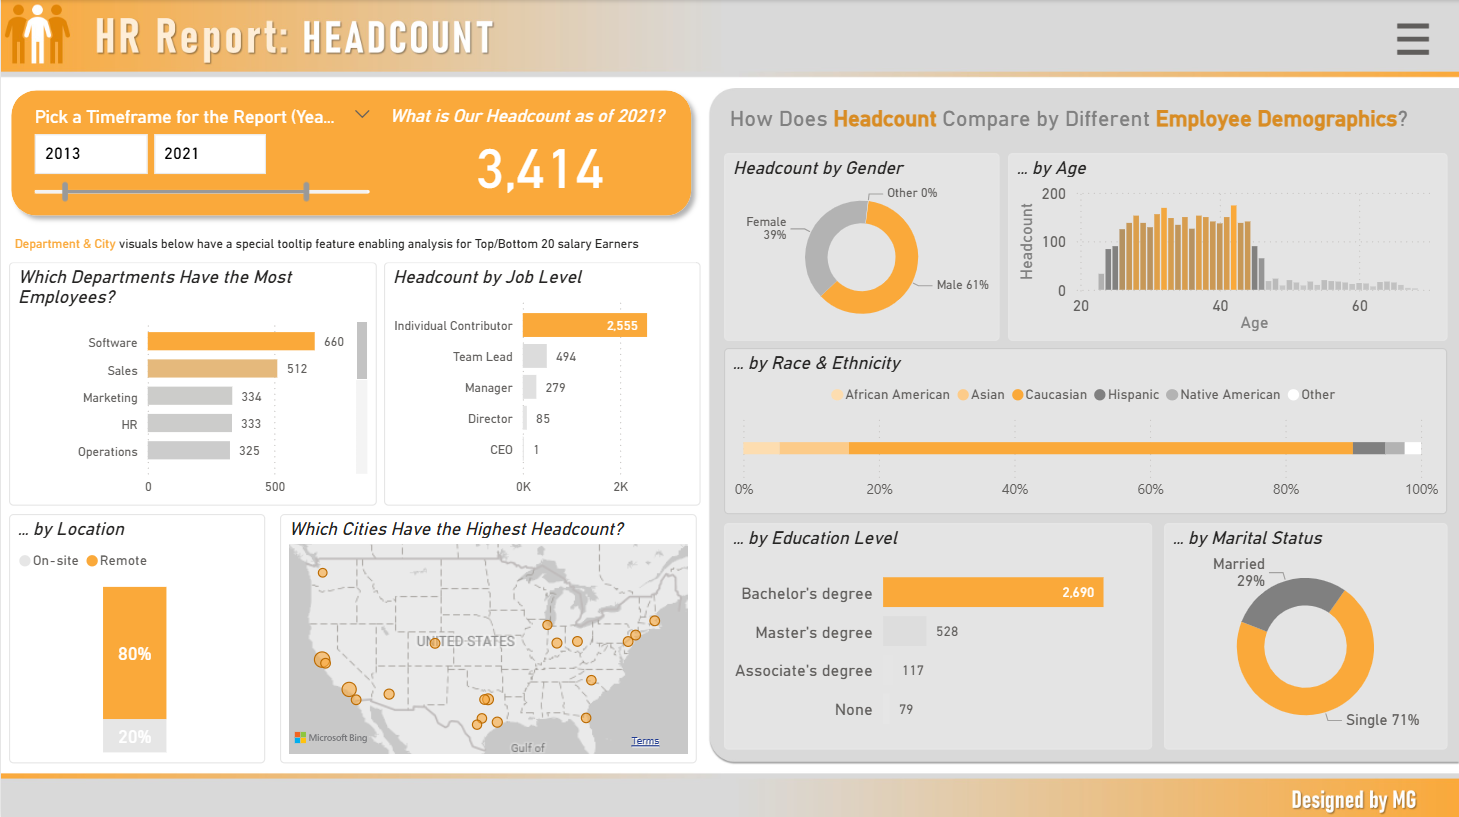

What the dashboard file says about the page in this screenshot:
{"tool":"powerbi","page":{"name":"Headcount","canvas":[1280,720],"ordinal":1},"visuals":[{"type":"shape","box":[0,70,614.7,128.4],"z":0},{"type":"card","fields":{"Values":["_Measures.Headcount"]},"box":[336.5,92.4,274.3,82.7],"z":1000},{"type":"slicer","fields":{"Values":["Date.Year"]},"box":[16.5,87.5,320,98.2],"z":2000},{"type":"clusteredBarChart","title":"Which Departments Have the Most Employees?","fields":{"Y":["_Measures.Headcount"],"Category":["department_dim.department","department_dim.sub-department"]},"box":[6.8,198.4,322.9,214],"z":3000},{"type":"clusteredBarChart","title":"Headcount by Job Level","fields":{"Y":["_Measures.Headcount"],"Category":["job_level_dim.job_level"]},"box":[336.5,198.4,278.2,214],"z":4000},{"type":"hundredPercentStackedColumnChart","title":"... by Location","fields":{"Y":["_Measures.Headcount"],"Series":["location_dim.location"]},"box":[6.8,421.2,224.7,249],"z":5000},{"type":"map","title":"Which Cities Have the Highest Headcount?","fields":{"Category":["location_dim.location_city"],"Size":["_Measures.Headcount"]},"box":[245.1,421.2,365.7,249],"z":6000},{"type":"donutChart","title":"Headcount by Gender","fields":{"Category":["demographic_dim.gender"],"Y":["_Measures.Headcount"]},"box":[635.1,134.2,242.2,165.3],"z":7000},{"type":"hundredPercentStackedBarChart","title":"... by Race & Ethnicity","fields":{"Y":["_Measures.Headcount"],"Series":["demographic_dim.race"]},"box":[635.1,305.4,635.1,145.9],"z":8000},{"type":"clusteredColumnChart","title":"... by Age","fields":{"Category":["demographic_dim.age"],"Y":["_Measures.Headcount"]},"box":[884.1,134.2,386.1,165.3],"z":9000},{"type":"clusteredBarChart","title":"... by Education Level","fields":{"Category":["education_dim.education"],"Y":["_Measures.Headcount"]},"box":[635.1,459.1,376.4,199.4],"z":10000},{"type":"donutChart","title":"... by Marital Status","fields":{"Category":["marital_dim.marital_status"],"Y":["_Measures.Headcount"]},"box":[1021.3,459.1,249,199.4],"z":11000},{"type":"textbox","box":[635.1,87.5,635.1,46.7],"z":12000}]}

Visuals, with their boxes in screenshot pixels (x1, y1, x2, y2), scaled from the page's 1280x720 canvas onto the 1459x817 screenshot:
shape: (x1=0, y1=79, x2=701, y2=225)
card - _Measures.Headcount: (x1=384, y1=105, x2=696, y2=199)
slicer - Date.Year: (x1=19, y1=99, x2=384, y2=211)
"Which Departments Have the Most Employees?" clusteredBarChart: (x1=8, y1=225, x2=376, y2=468)
"Headcount by Job Level" clusteredBarChart: (x1=384, y1=225, x2=701, y2=468)
"... by Location" hundredPercentStackedColumnChart: (x1=8, y1=478, x2=264, y2=760)
"Which Cities Have the Highest Headcount?" map: (x1=279, y1=478, x2=696, y2=760)
"Headcount by Gender" donutChart: (x1=724, y1=152, x2=1000, y2=340)
"... by Race & Ethnicity" hundredPercentStackedBarChart: (x1=724, y1=347, x2=1448, y2=512)
"... by Age" clusteredColumnChart: (x1=1008, y1=152, x2=1448, y2=340)
"... by Education Level" clusteredBarChart: (x1=724, y1=521, x2=1153, y2=747)
"... by Marital Status" donutChart: (x1=1164, y1=521, x2=1448, y2=747)
textbox: (x1=724, y1=99, x2=1448, y2=152)
